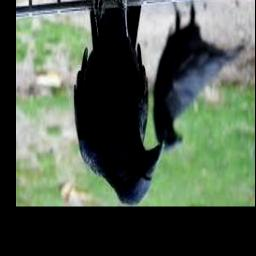Crow: (74, 0, 164, 206), (153, 0, 245, 149)
